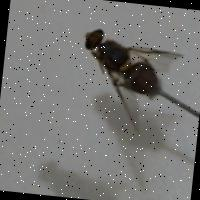Oriental-fruit-fly: (52, 5, 196, 159)
